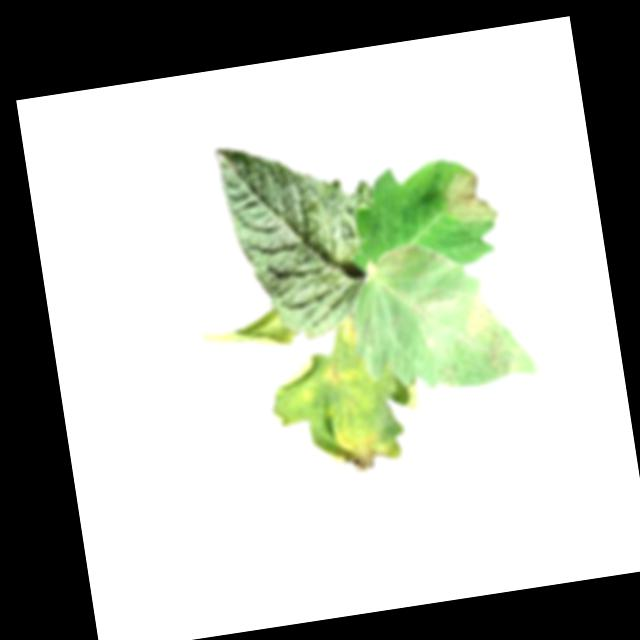Late_blight: (460, 289, 519, 382), (194, 306, 297, 358), (373, 236, 463, 284), (325, 420, 388, 476), (442, 167, 497, 227), (323, 357, 351, 389), (437, 358, 461, 390), (339, 313, 359, 348)
healthy: (213, 125, 394, 350)
